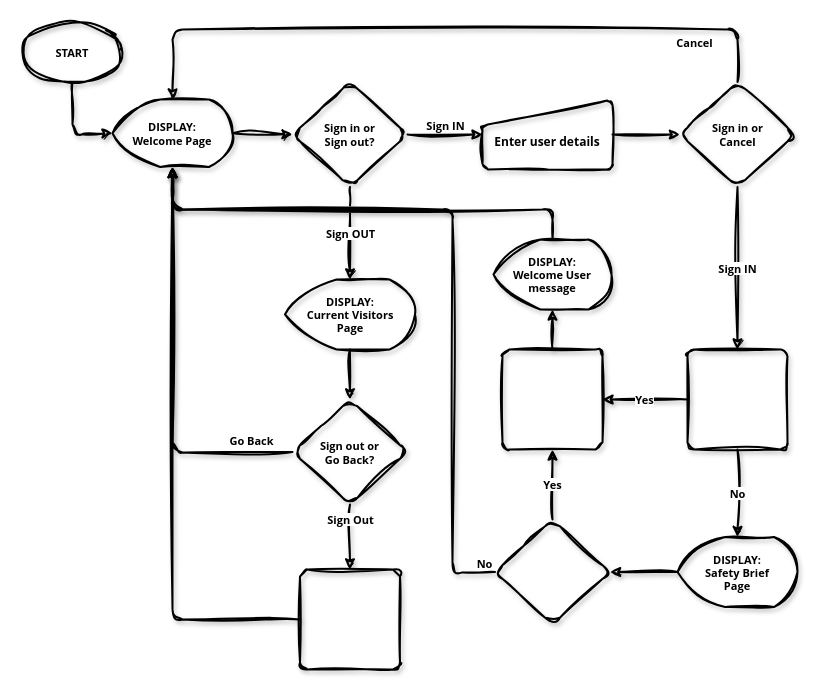
Image size: 821x695. Some labels were removed from this diagram. The centre of each missing label's shape, as x and y in pixels:
Check if user has read Safety Brief: the point at 738,400
User added to DB and set timeIn to now: the point at 553,400
User Agrees: the point at 553,573
User set timeIn to null: the point at 350,620
